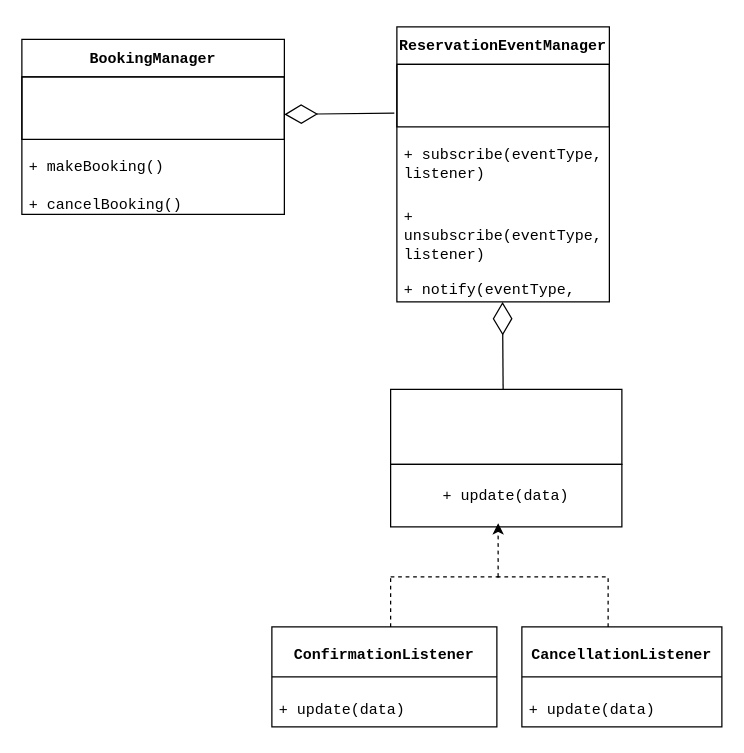
The diagram is 744 pixels wide and 753 high, and some of its shapes have lost their labels. Each missing label, with the centre of its shape:
"+ listeners" belongs at point 502,95.
"+events: ReservationEventManager" belongs at point 152,107.
"«interface» BookingEventListener" belongs at point 505,426.
